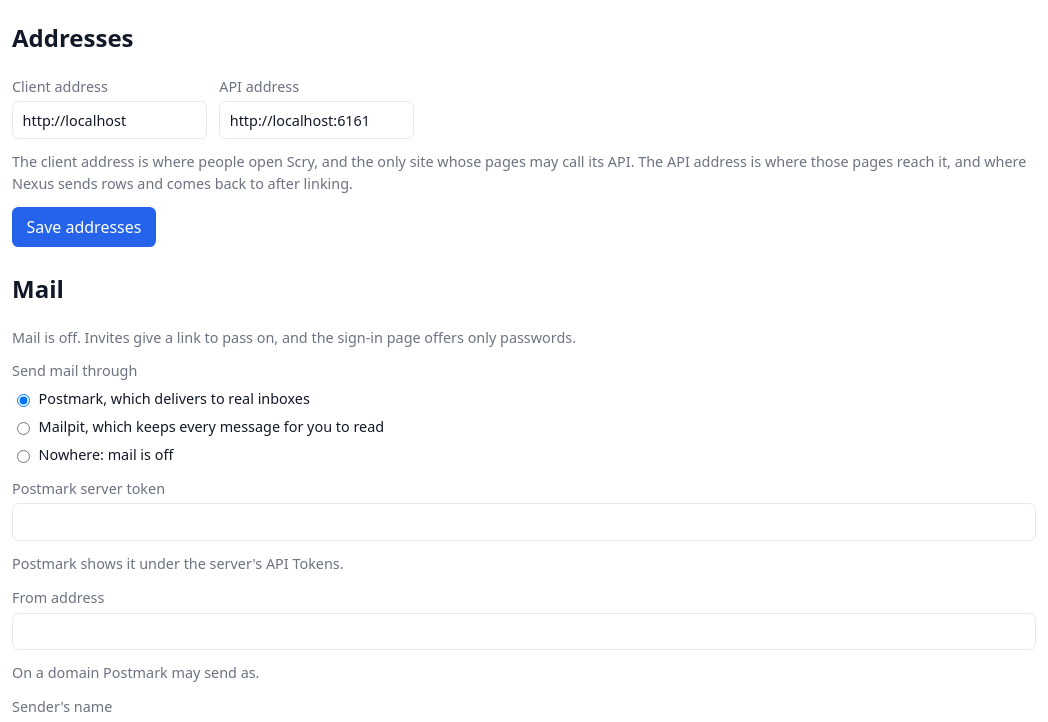
Test: saves the addresses
The image size is (1048, 722).
Replace the text in the field labelled "API address" with "https://api.scry.example.test" at (317,120), box [219, 101, 414, 139]
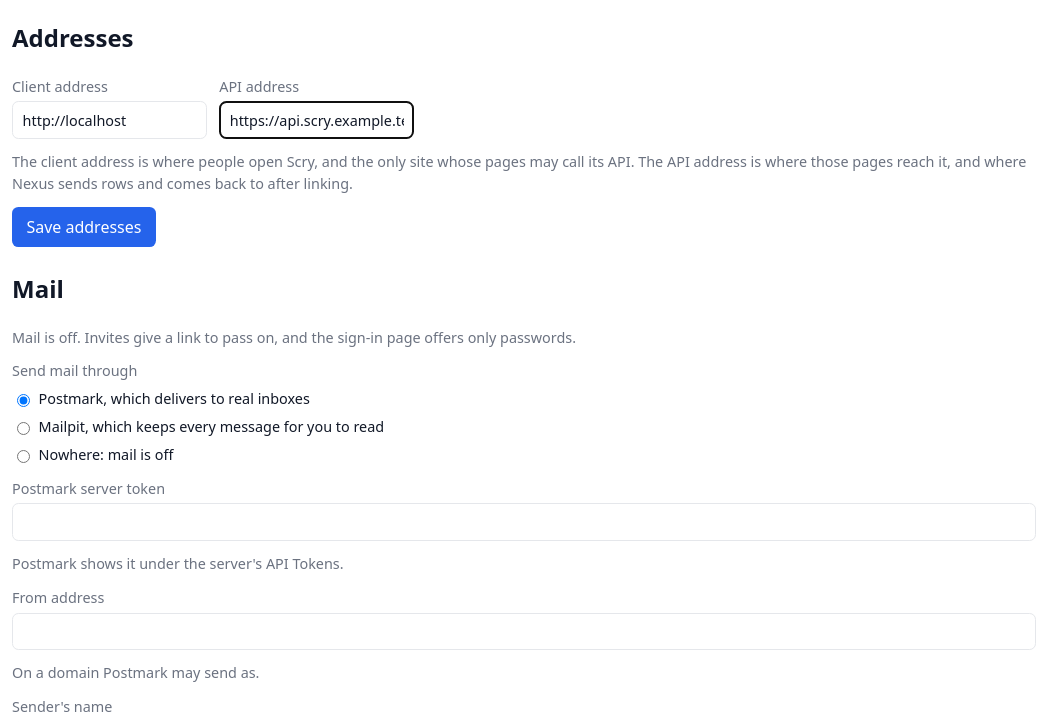
Click the button "Save addresses" at (84,227), box [12, 207, 156, 247]
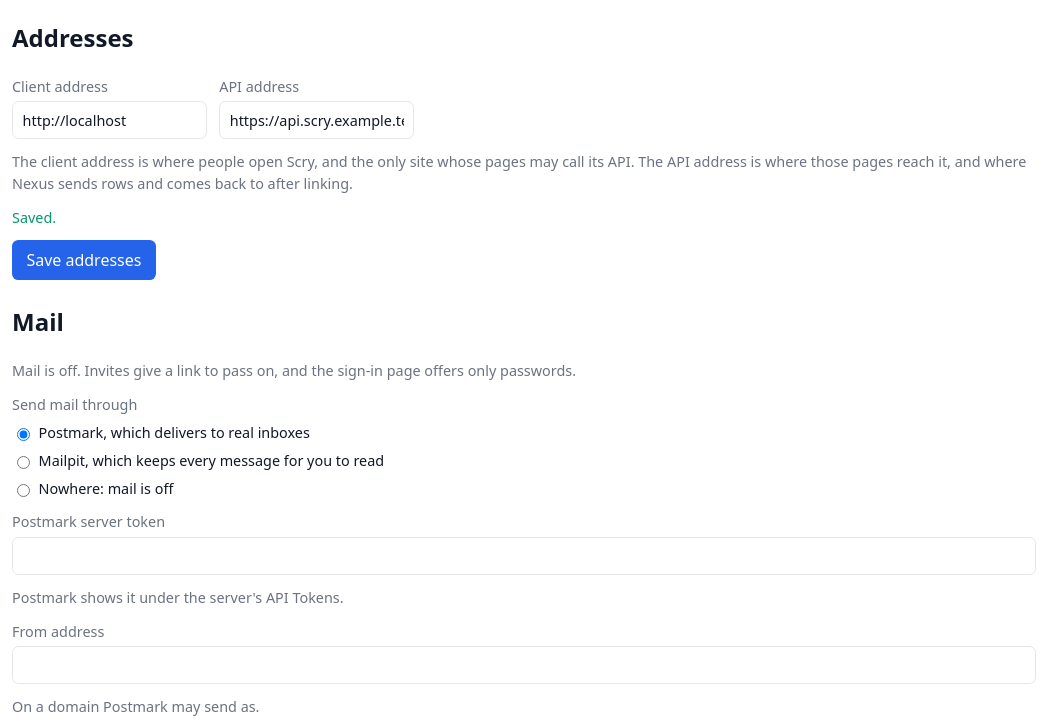
Expected: the text "Saved." is shown, [12, 208, 56, 227]
